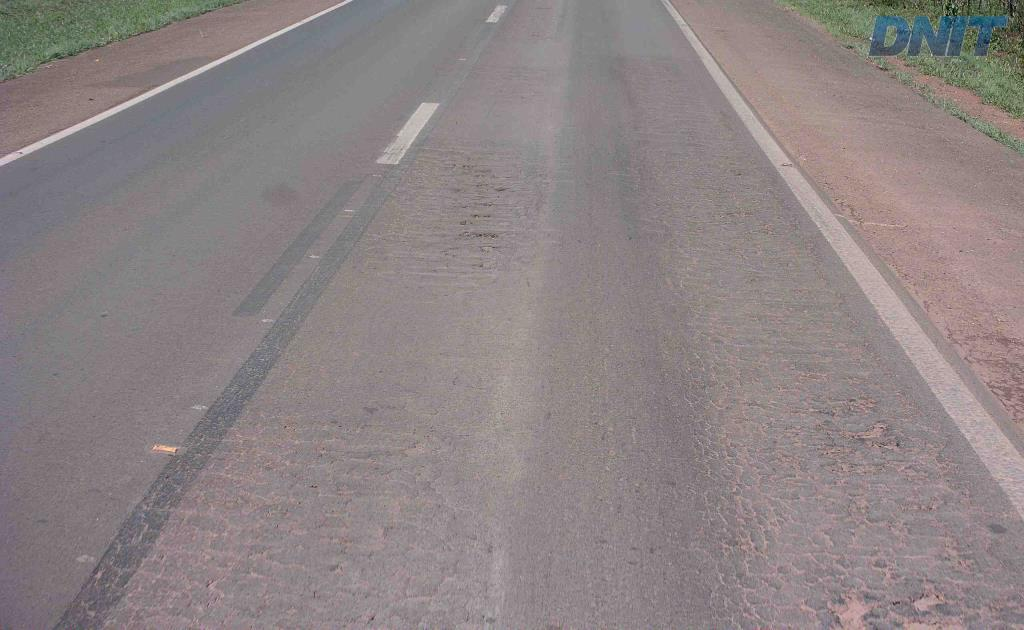crack: (829, 419, 909, 451), (684, 434, 719, 506), (669, 367, 713, 411), (661, 396, 697, 428)
pothole: (886, 585, 980, 628), (818, 583, 880, 628), (821, 415, 888, 443), (455, 227, 510, 243)
